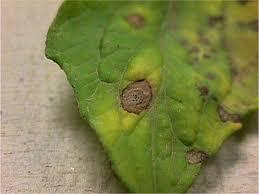Bok-Choy-Diseased: (99, 10, 247, 164)
